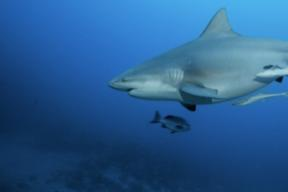Shark -Selachimorpha-: (101, 0, 288, 119)
